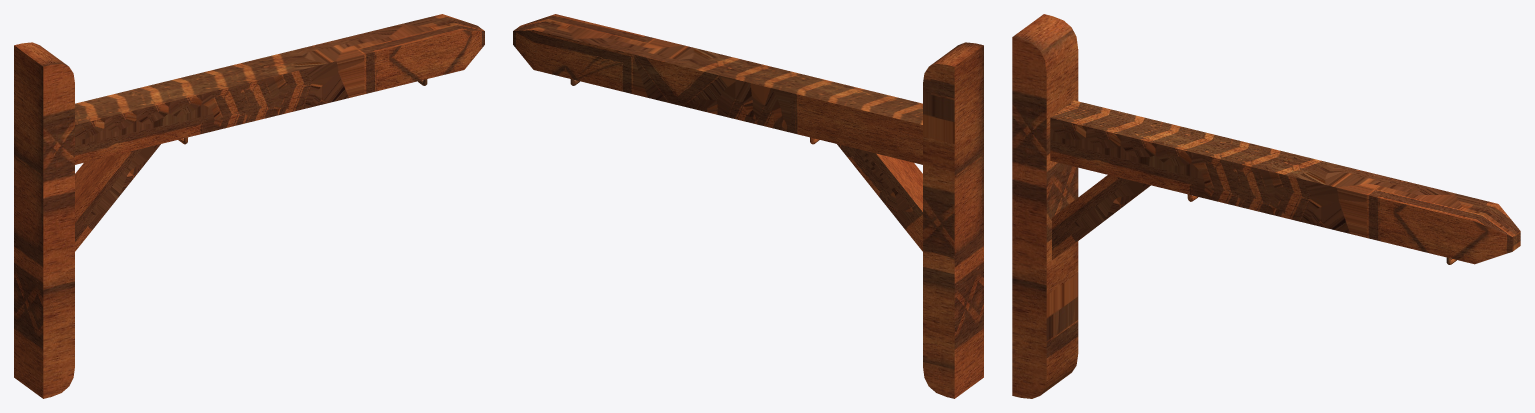
Rendered from Sign Hanger.fbx.
3 renders of one model, left to right at view 1: azimuth 30°, elevation 25°; view 2: azimuth 150°, elevation 25°; view 3: azimuth 330°, elevation 25°, orthographic. The views are drawn at different scales.
Parts seen in each view (by area): view 1: signboard_02_signboard_02_0; view 2: signboard_02_signboard_02_0; view 3: signboard_02_signboard_02_0.
Part boxes in pixels (<box>): signboard_02_signboard_02_0: <box>14,14,484,398</box>; signboard_02_signboard_02_0: <box>513,14,983,398</box>; signboard_02_signboard_02_0: <box>1012,14,1520,398</box>.
Bounding box in the file's own units: 35.64 × 25 × 4.
